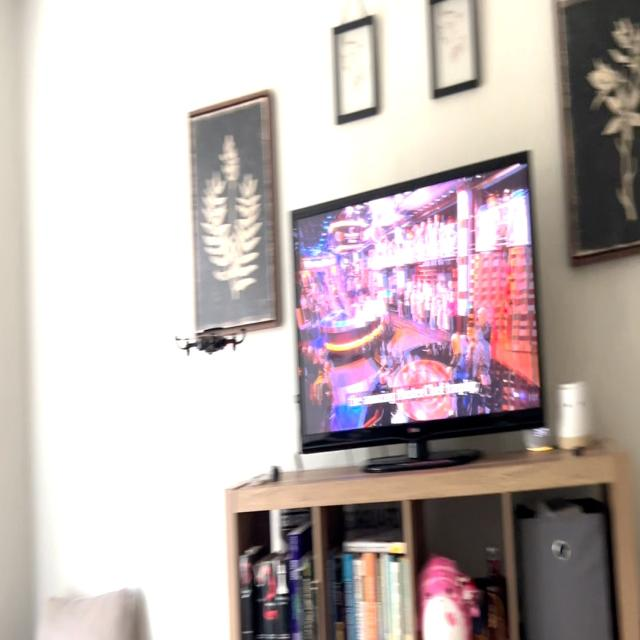drone: (165, 310, 256, 369)
